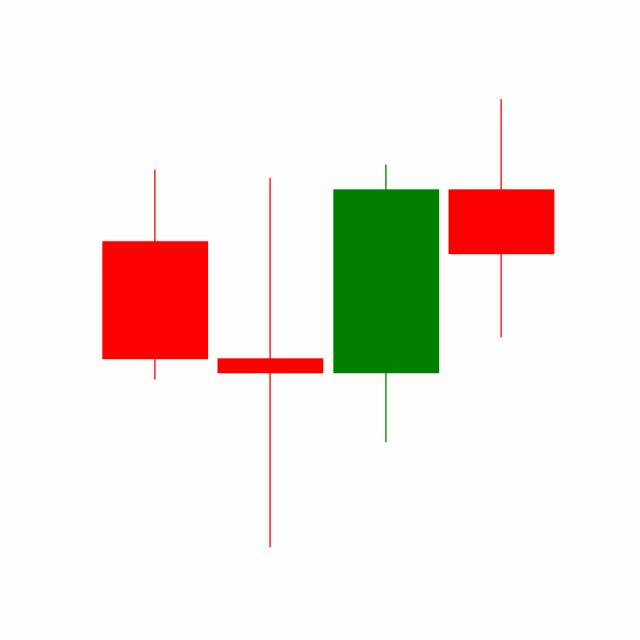Spinning Top: (443, 96, 559, 340)
